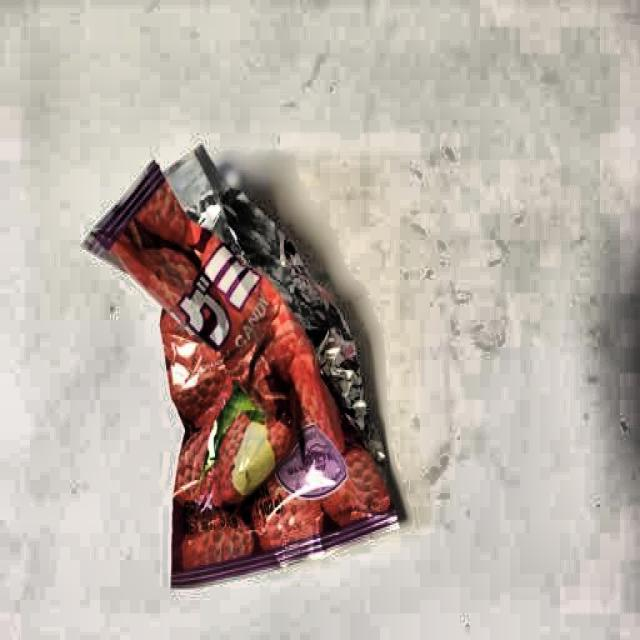plastic: (75, 146, 406, 568)
